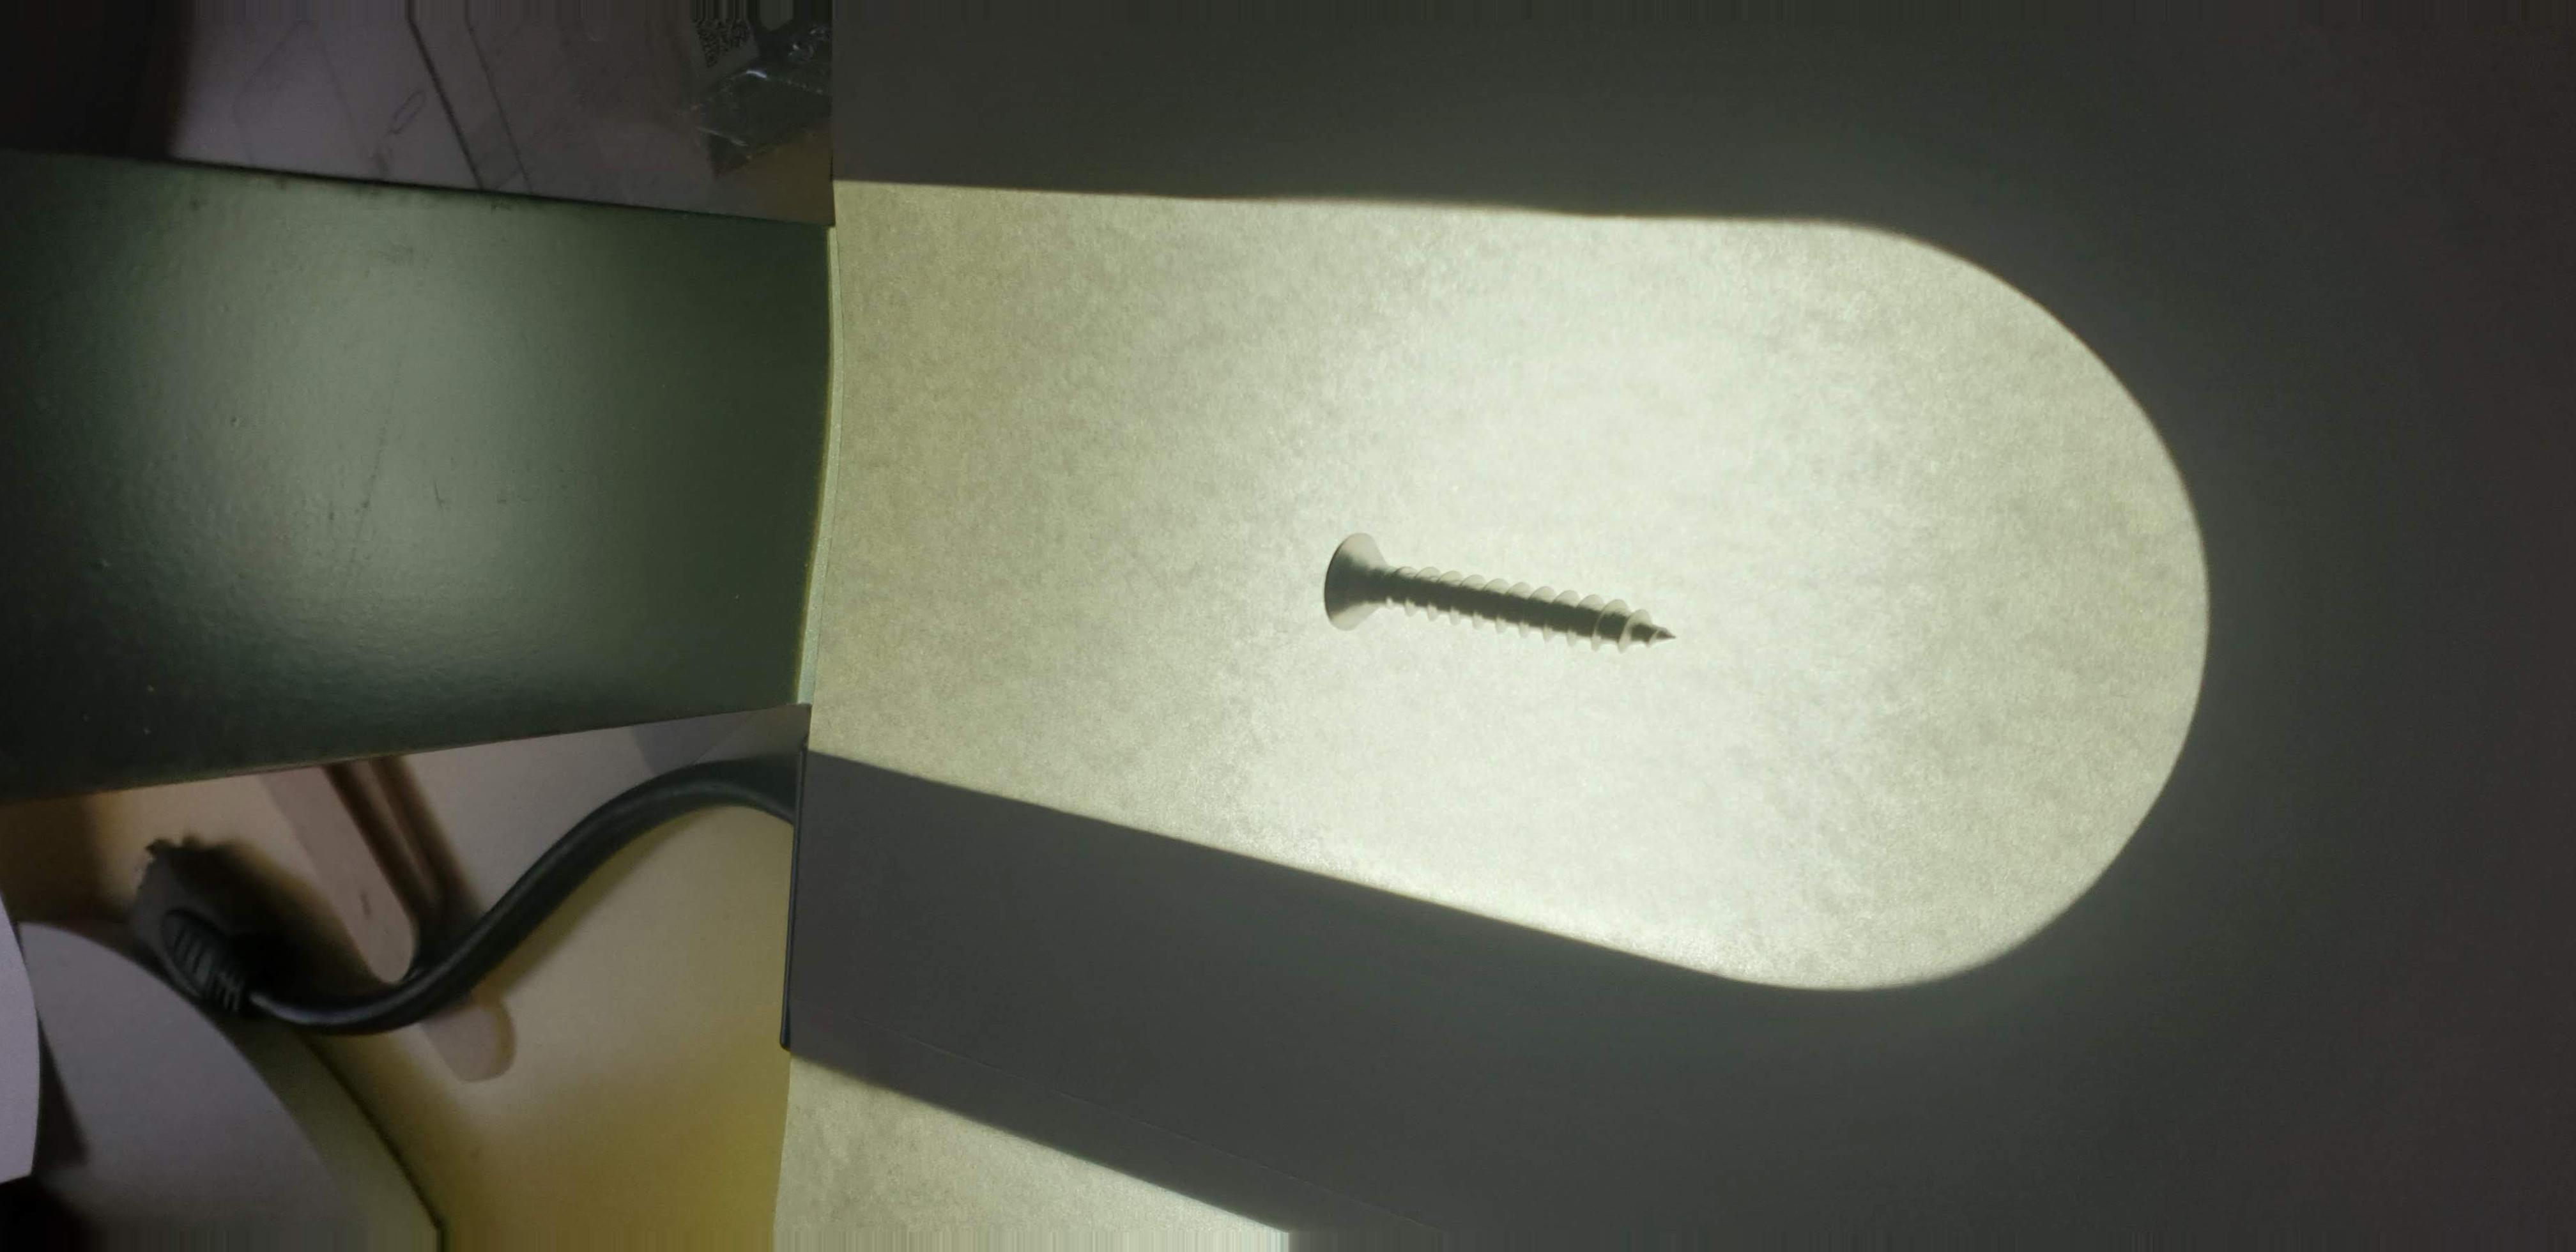S004: (1299, 506, 1725, 690)
